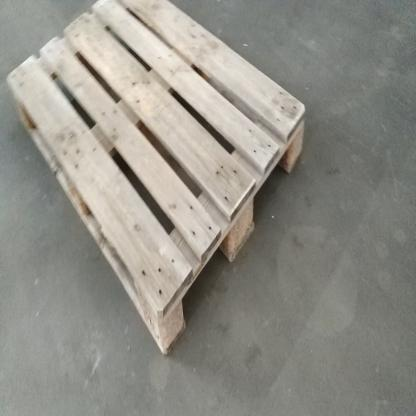BoxFace: (6, 0, 311, 365)
